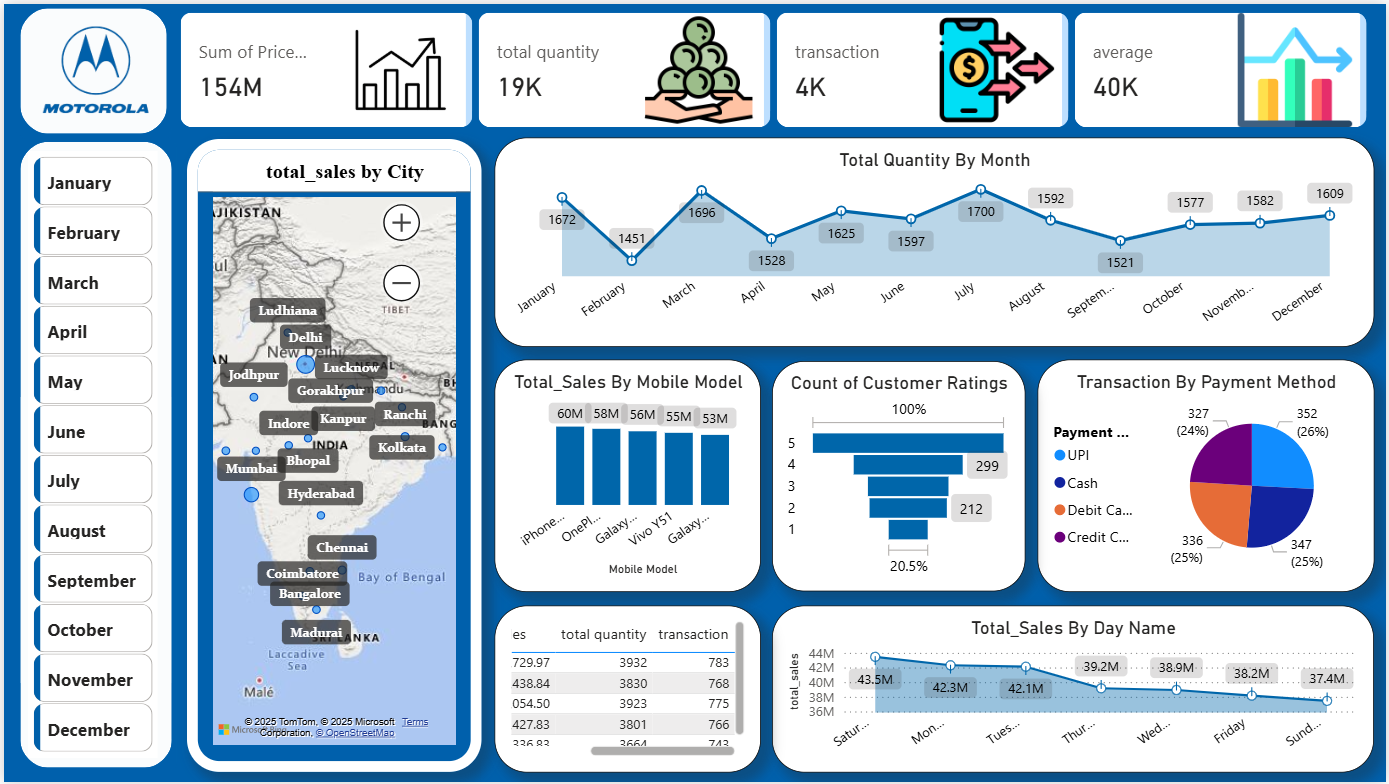

Layout of this report page (visuals, bound fields, positions):
{"tool":"powerbi","page":{"name":"Page 1","canvas":[1280,720],"ordinal":0},"visuals":[{"type":"shape","box":[10.6,0,143.8,124.2],"z":0},{"type":"image","box":[15.1,7.6,139.3,107.5],"z":1000},{"type":"shape","box":[10.6,124.2,148.4,587.5],"z":2000},{"type":"advancedSlicerVisual","fields":{"Values":["Sheet1.Date.Variation.Date Hierarchy.Month"]},"box":[22.2,136,120.3,562.2],"z":3000},{"type":"cardVisual","fields":{"Data":["Sum(salse_data.Price Per Unit)","salse_data.total quantity","salse_data.transaction","salse_data.average"]},"box":[159,3,1109.9,116.6],"z":4000},{"type":"map","fields":{"Size":["salse_data.total_sales"],"Category":["salse_data.City"]},"box":[169.6,125.7,272.6,586],"z":5000},{"type":"lineChart","title":"Total Quantity By Month","fields":{"Y":["salse_data.total quantity"],"Category":["salse_data.Date.Variation.Date Hierarchy.Month"]},"box":[454.3,124.2,814.6,193.8],"z":6000},{"type":"clusteredColumnChart","title":"Total_Sales By Mobile Model","fields":{"Category":["salse_data.Mobile Model"],"Y":["salse_data.total_sales"]},"box":[454.3,328.6,246.8,215],"z":7000},{"type":"pieChart","title":"Transaction By Payment Method","fields":{"Category":["salse_data.Payment Method"],"Y":["salse_data.transaction"]},"box":[957,328.6,311.9,215],"z":8000},{"type":"funnel","title":"Count of Customer Ratings","fields":{"Category":["salse_data.Customer Ratings"],"Y":["CountNonNull(salse_data.Customer Ratings)"]},"box":[711.7,330.1,234.7,213.5],"z":9000},{"type":"areaChart","title":"Total_Sales By Day Name","fields":{"Category":["salse_data.Day Name"],"Y":["salse_data.total_sales"]},"box":[711.7,557.2,557.2,154.4],"z":10000},{"type":"tableEx","fields":{"Values":["salse_data.Brand","salse_data.total_sales","salse_data.total quantity","salse_data.transaction"]},"box":[454.3,557.2,246.8,154.4],"z":11000}]}

Visuals, with their boxes in screenshot pixels (x1, y1, x2, y2), scaled from the page's 1280x720 canvas onto the 1389x784 screenshot:
shape: (12,0,168,135)
image: (16,8,168,125)
shape: (12,135,173,775)
advancedSlicerVisual - Sheet1.Date.Variation.Date Hierarchy.Month: (24,148,155,760)
cardVisual - Sum(salse_data.Price Per Unit) x salse_data.total quantity: (173,3,1377,130)
map - salse_data.total_sales x salse_data.City: (184,137,480,775)
"Total Quantity By Month" lineChart: (493,135,1377,346)
"Total_Sales By Mobile Model" clusteredColumnChart: (493,358,761,592)
"Transaction By Payment Method" pieChart: (1038,358,1377,592)
"Count of Customer Ratings" funnel: (772,359,1027,592)
"Total_Sales By Day Name" areaChart: (772,607,1377,775)
tableEx - salse_data.Brand x salse_data.total_sales: (493,607,761,775)
